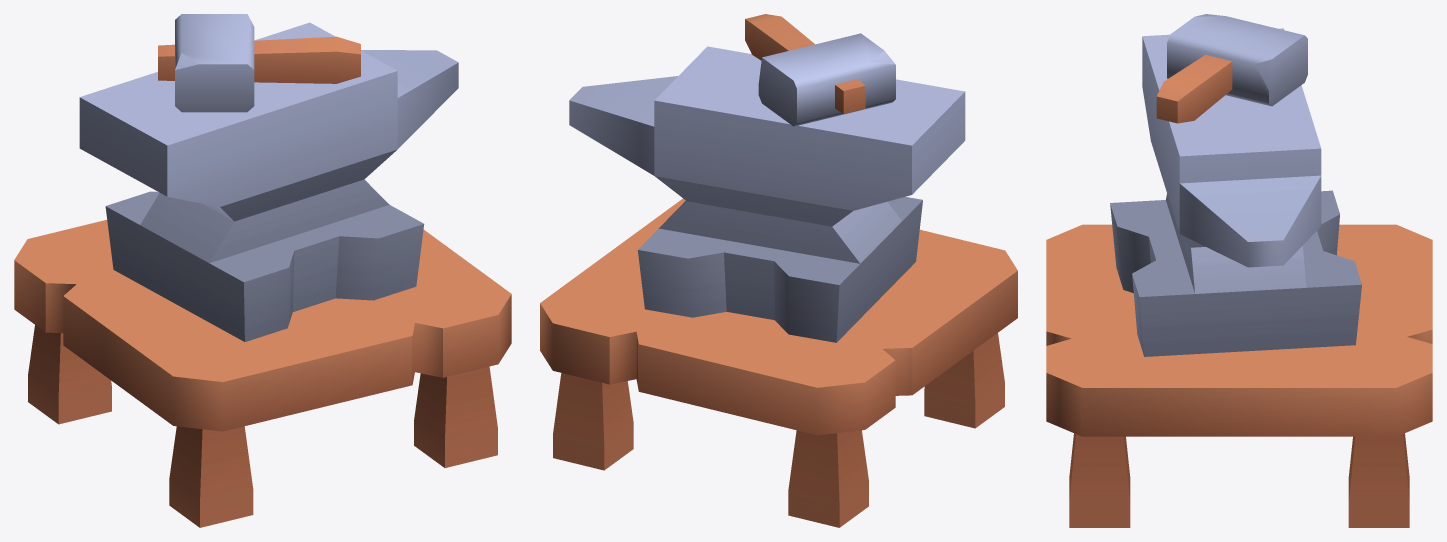
The model's file is anvil.glb.
3 renders of one model, left to right at view 1: azimuth 30°, elevation 25°; view 2: azimuth 150°, elevation 25°; view 3: azimuth 270°, elevation 25°, orthographic. The views are drawn at different scales.
Parts seen in each view (by area): view 1: workbench-anvil; view 2: workbench-anvil; view 3: workbench-anvil.
Boxes of the visible parts, x1,y1,x2,y2 form: workbench-anvil: [14, 14, 511, 527]; workbench-anvil: [540, 14, 1017, 527]; workbench-anvil: [1046, 14, 1432, 527].
Bounding box in the file's own units: 0.3227 × 0.3358 × 0.2957.
1 material, 1 textured.
